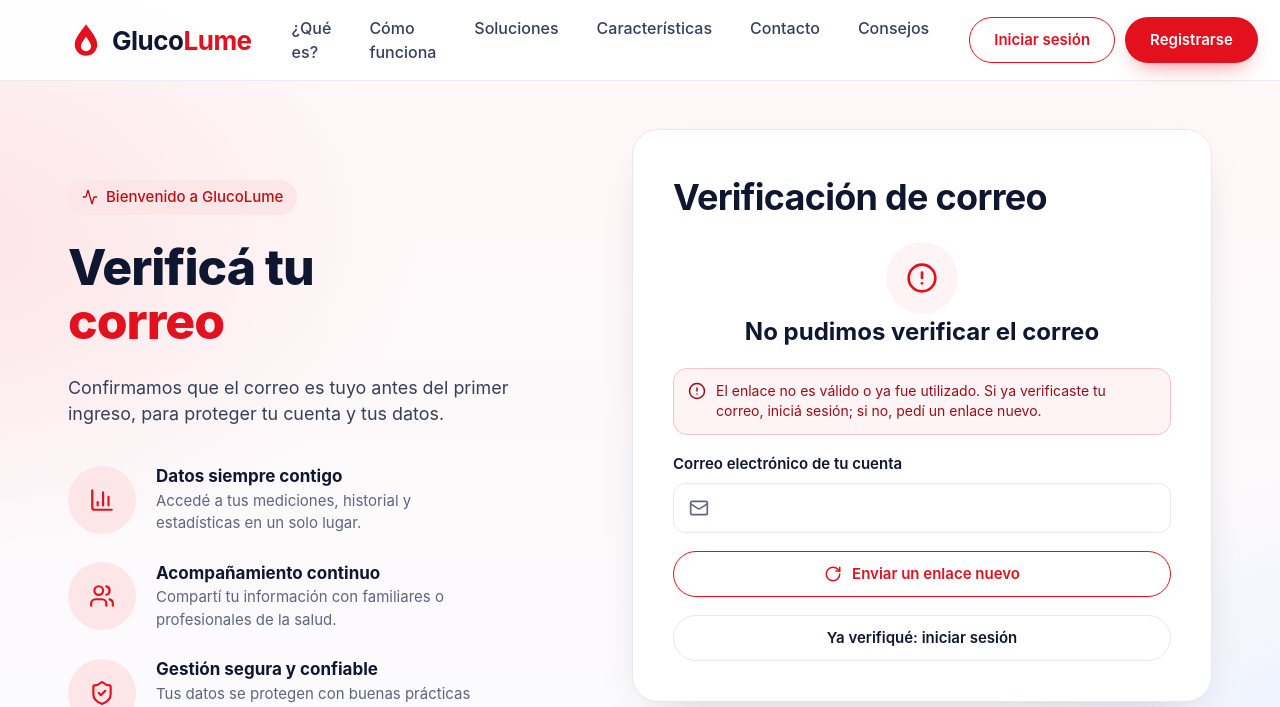
Test: Verificación de correo › enlace inválido o ya usado: permite pedir uno nuevo
This screenshot has width=1280, height=707.
Expected: the text "no es válido o ya fue utilizado" is shown, [716, 382, 1106, 419]
Type "laura@example.com" into the field labelled "Correo electrónico de tu cuenta".
click(922, 508); type("laura@example.com")  # box [673, 483, 1171, 533]
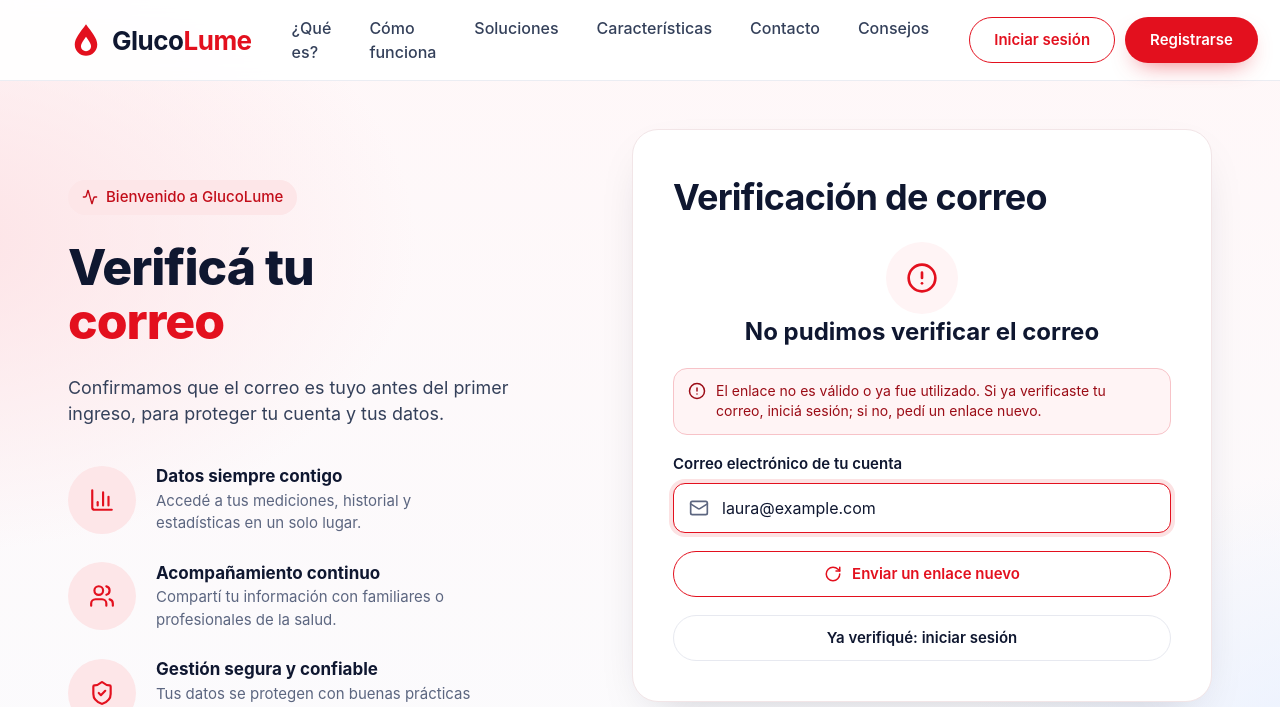
Click the button "Enviar un enlace nuevo".
click(922, 574)  # box [673, 551, 1171, 597]
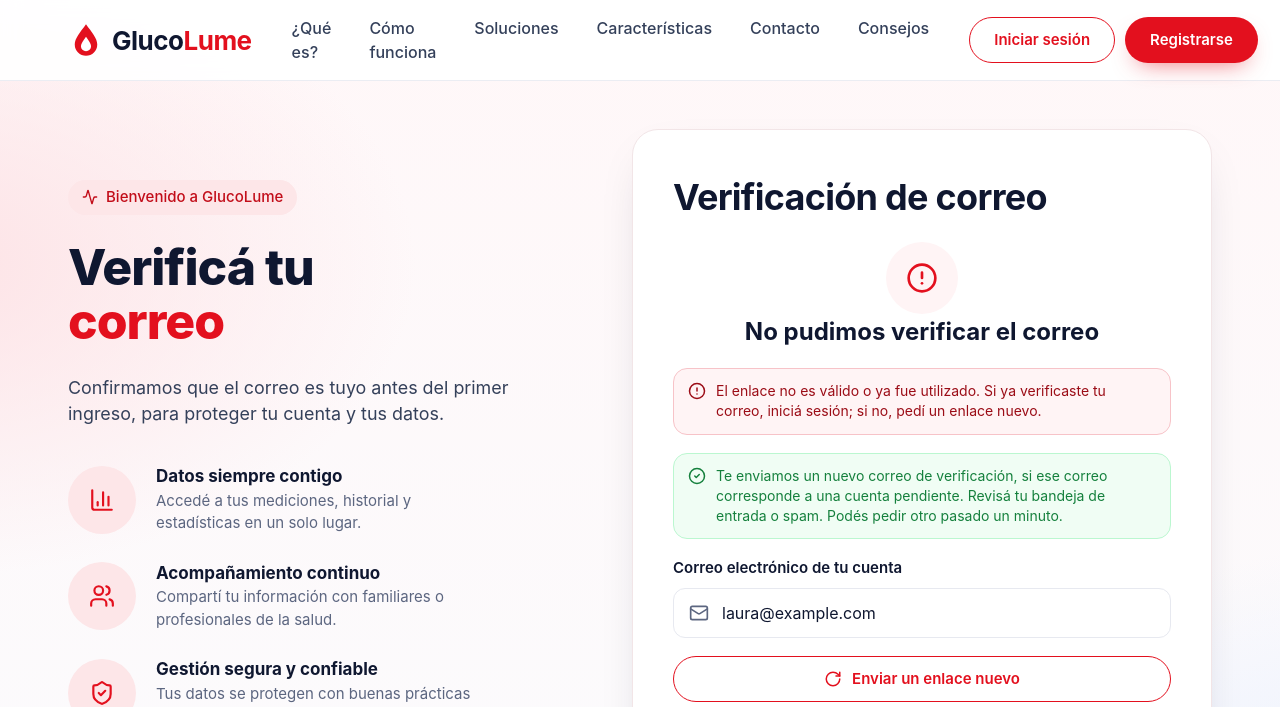
Result: the text "Te enviamos un nuevo correo de verificación" is shown at [716, 467, 1107, 524]
